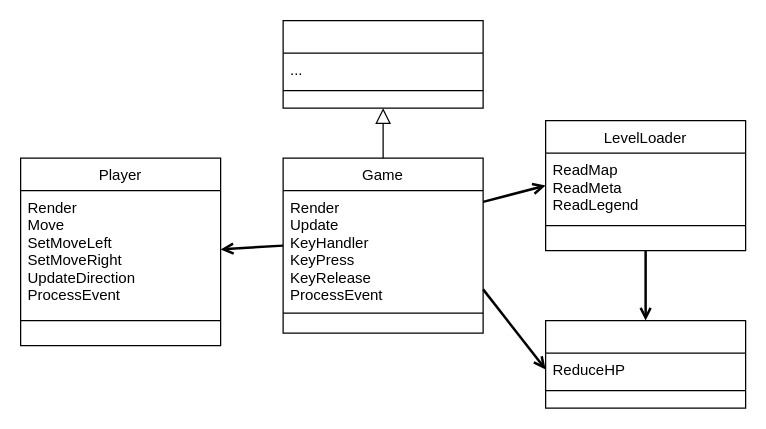
Image size: 766x429. Some labels were removed from this diagram. The shapes that lost their labels are listed below. From the top down, each one's box as (x1, y1, x2, y2) in pixels, then its label:
(282, 19, 483, 108): DIKUArcade
(544, 319, 746, 408): Block
